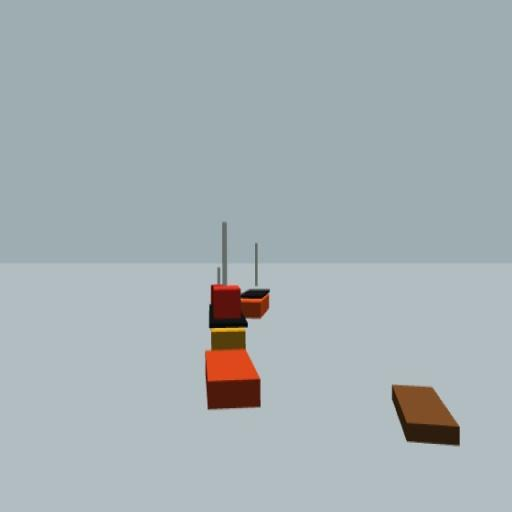debris_container: (392, 383, 462, 448), (203, 348, 259, 407)
vessel: (208, 222, 246, 351), (243, 242, 269, 320)
